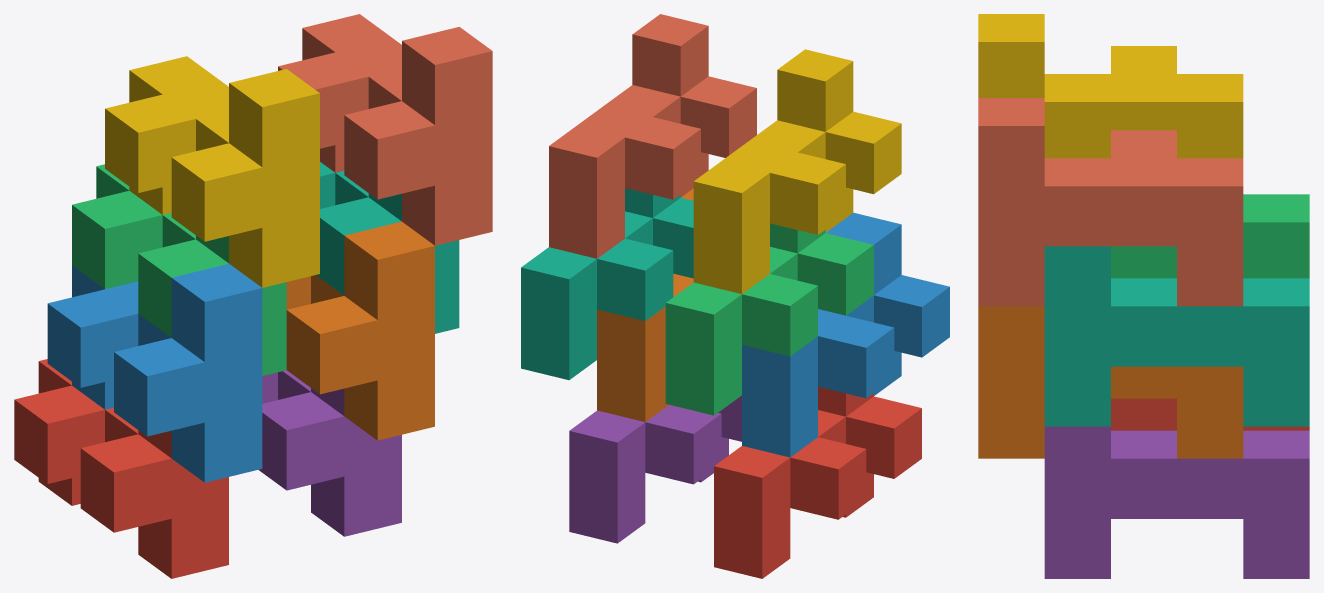
The model's file is tiling.obj.
3 renders of one model, left to right at view 1: azimuth 30°, elevation 25°; view 2: azimuth 150°, elevation 25°; view 3: azimuth 270°, elevation 25°, orthographic. The views are drawn at different scales.
Parts seen in each view (by area): view 1: copy_1_domain_4, copy_1_domain_8, copy_1_domain_2, copy_1_domain_6, copy_1_domain_1, copy_1_domain_5, copy_1_domain_3, copy_1_domain_7; view 2: copy_1_domain_4, copy_1_domain_8, copy_1_domain_2, copy_1_domain_1, copy_1_domain_3, copy_1_domain_7, copy_1_domain_5, copy_1_domain_6; view 3: copy_1_domain_8, copy_1_domain_7, copy_1_domain_5, copy_1_domain_4, copy_1_domain_6, copy_1_domain_3, copy_1_domain_1.
Part boxes in pixels (x1,y1,x2,y2): copy_1_domain_4: (105, 56, 319, 287); copy_1_domain_8: (278, 14, 492, 245); copy_1_domain_2: (47, 264, 262, 482); copy_1_domain_6: (286, 221, 434, 440); copy_1_domain_1: (14, 359, 228, 578); copy_1_domain_5: (258, 370, 401, 536); copy_1_domain_3: (72, 164, 286, 375); copy_1_domain_7: (316, 162, 459, 333); copy_1_domain_4: (693, 49, 901, 293); copy_1_domain_8: (549, 14, 756, 258); copy_1_domain_2: (742, 212, 949, 457); copy_1_domain_1: (714, 386, 921, 578); copy_1_domain_3: (665, 223, 873, 415); copy_1_domain_7: (521, 188, 693, 380); copy_1_domain_5: (569, 395, 741, 543); copy_1_domain_6: (597, 188, 693, 422); copy_1_domain_8: (978, 98, 1243, 306); copy_1_domain_7: (1044, 246, 1309, 426); copy_1_domain_5: (1044, 426, 1309, 578); copy_1_domain_4: (978, 14, 1243, 158); copy_1_domain_6: (978, 306, 1243, 458); copy_1_domain_3: (1111, 194, 1309, 278); copy_1_domain_1: (1111, 398, 1309, 430).
Bounding box in the file's own units: 6 × 8 × 5.
